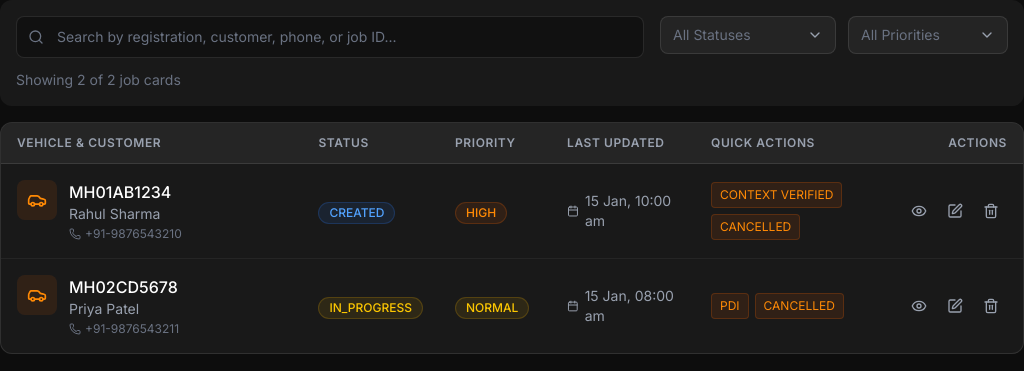
Test case: JobCardTable Component › clears filters when clear button is clicked
Apply a filter
Type "MH01" into the field with placeholder "Search by registration, customer, phone, or job ID..." at [330, 37], box [16,16,644,58]
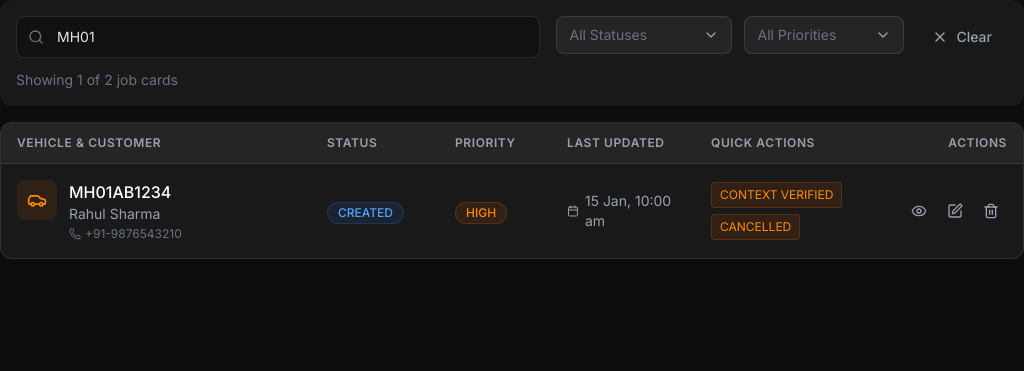
Clear filters
Click the button "Clear" at [962, 37], box [916,16,1008,58]
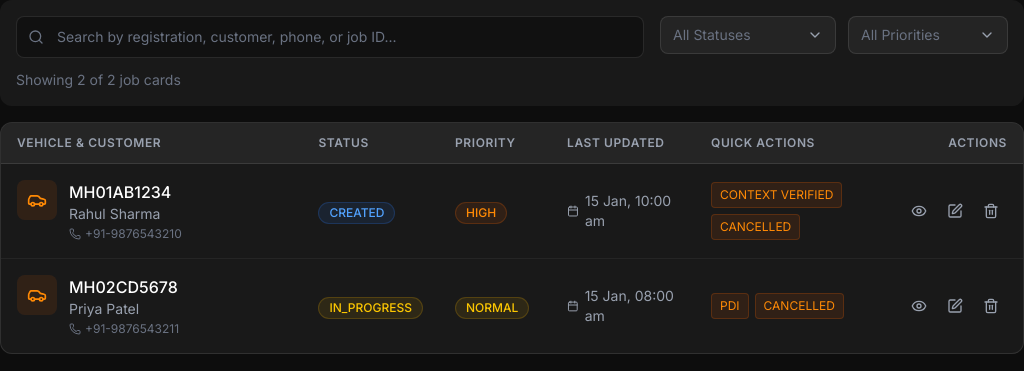
Expected: the text "MH01AB1234" is shown, [69,180,182,204]
Now the text "MH02CD5678" is shown, box [69,275,179,299]
